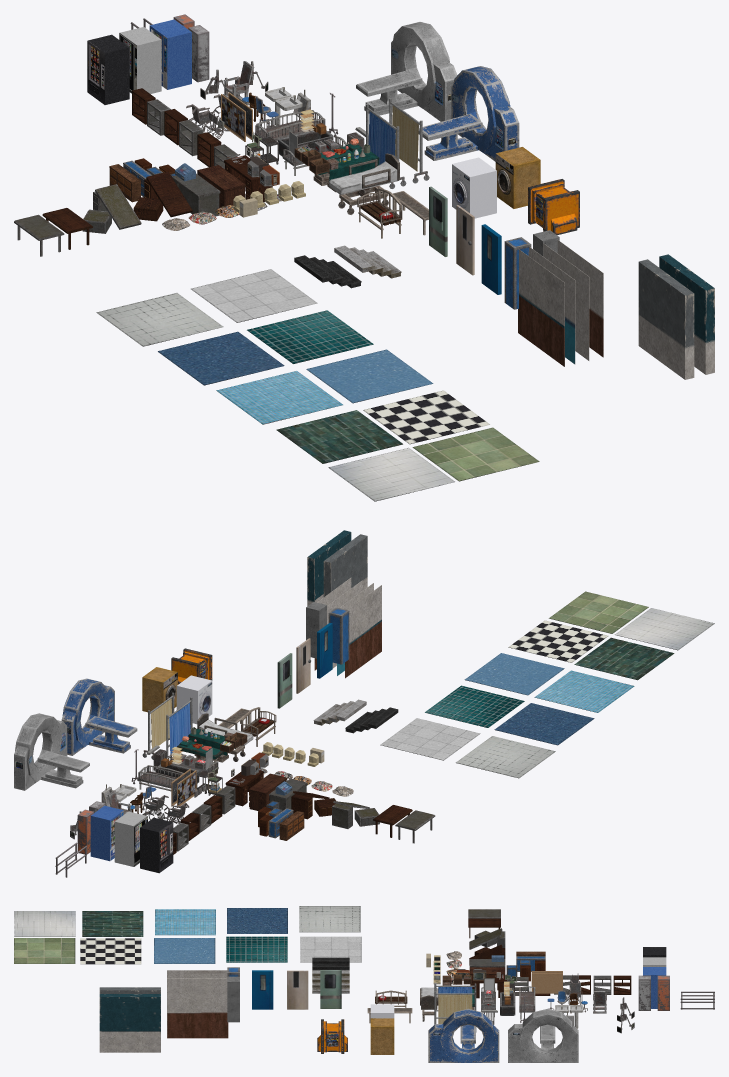
Rendered from HospitalGLTF.glb.
3 views of the same model, one above another, from view 1: azimuth 30°, elevation 25°; view 2: azimuth 150°, elevation 25°; view 3: azimuth 270°, elevation 25° (orthographic). The views are drawn at different scales.
Parts seen in each view (by area): view 1: Scanner, Scanner.001, Wall_Variant_2, Wall_Variant_1, Floor.003, Floor.008, Floor.004, Floor.007, Floor, Floor.001, Floor.005, Floor.002 (+34 smaller); view 2: Scanner.001, Scanner, Floor.004, Floor.007, Floor, Floor.002, Floor.005, Floor.006, Floor.001, Floor.008, Floor.009, Floor.003 (+27 smaller); view 3: Wall_Variant_2.001, Wall_Variant_1.003, Scanner, Scanner.001, Floor.001, Floor.003, Floor.006, Floor.005, Floor.002, Floor.007, Floor.008, Floor.009 (+33 smaller).
Boxes of the visible parts, x1,y1,x2,y2 form: Scanner: (418,66,519,161); Scanner.001: (356,22,457,121); Wall_Variant_2: (638,259,694,379); Wall_Variant_1: (518,249,564,366); Floor.003: (96,293,223,346); Floor.008: (412,427,539,481); Floor.004: (158,331,284,385); Floor.007: (276,410,402,463); Floor: (191,269,317,322); Floor.001: (247,310,373,363); Floor.005: (216,371,342,424); Floor.002: (306,349,433,403); Scanner.001: (14,713,89,790); Scanner: (61,678,137,755); Floor.004: (494,703,594,745); Floor.007: (574,637,674,680); Floor: (380,718,480,760); Floor.002: (464,653,564,695); Floor.005: (534,670,634,712); Floor.006: (508,620,608,662); Floor.001: (425,685,524,727); Floor.008: (549,591,648,633); Floor.009: (615,608,714,650); Floor.003: (456,736,555,778); Wall_Variant_2.001: (99,994,160,1052); Wall_Variant_1.003: (167,982,228,1038); Scanner: (428,1008,499,1062); Scanner.001: (508,1008,578,1062); Floor.001: (226,936,287,962); Floor.003: (299,906,360,932); Floor.006: (80,938,141,964); Floor.005: (155,909,215,935); Floor.002: (154,938,215,963); Floor.007: (82,911,143,936); Floor.008: (14,938,75,963); Floor.009: (14,911,75,936).
Bounding box in the file's own units: 23.64 × 4.4 × 45.82.
140 materials, 140 textured.
